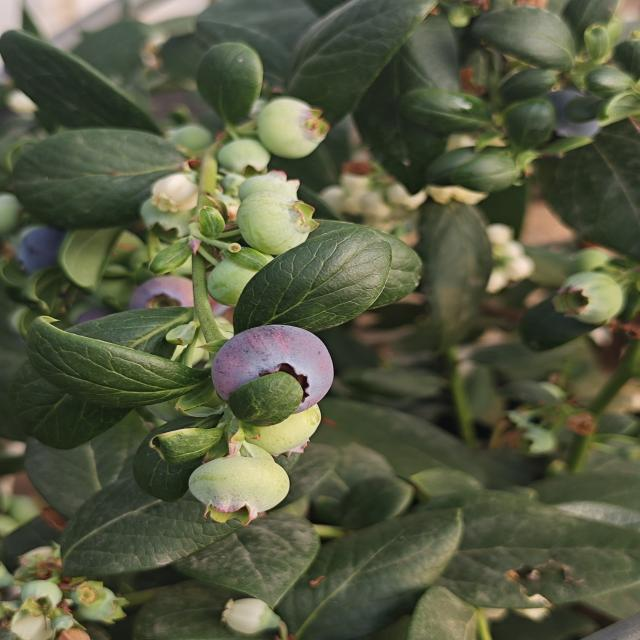ripe: (211, 325, 335, 411), (130, 271, 196, 309), (13, 225, 52, 267)
